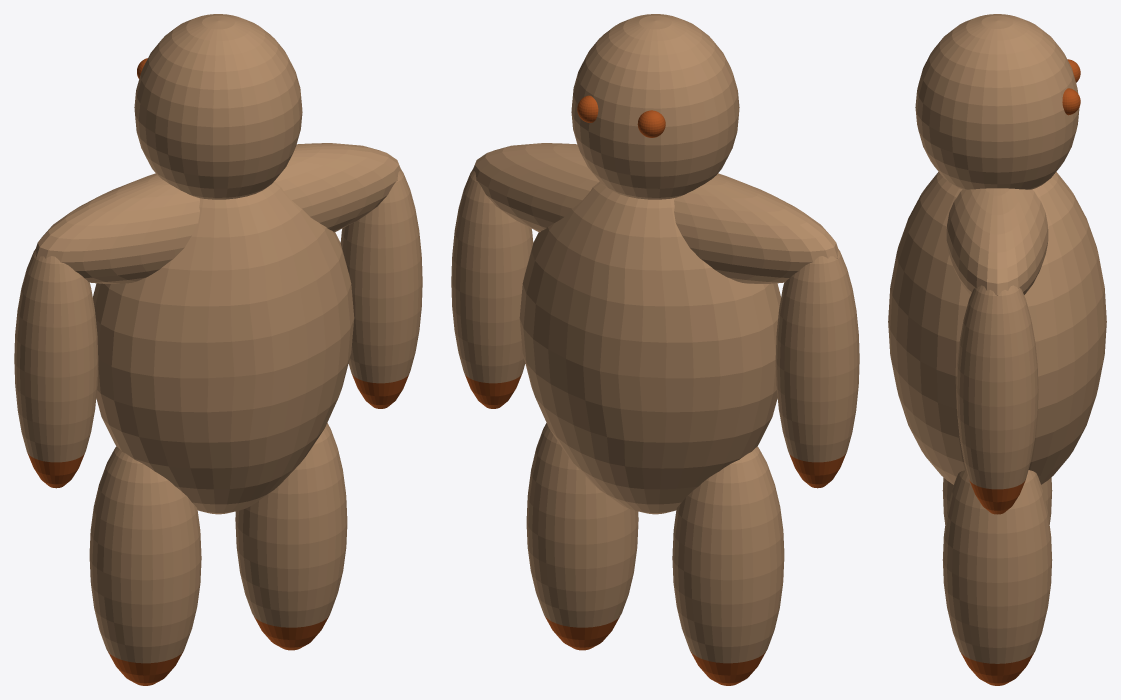
Rendered from player.glb.
3 renders of one model, left to right at view 1: azimuth 30°, elevation 25°; view 2: azimuth 150°, elevation 25°; view 3: azimuth 270°, elevation 25°, orthographic. The views are drawn at different scales.
Visible parts, largest first — view 1: body, head, right_leg, shoulders, left_leg, right_arm, left_arm; view 2: body, head, right_leg, shoulders, left_leg, right_arm, left_arm, left_eye; view 3: body, head, left_leg, left_arm, shoulders, right_leg, right_eye.
Part boxes in pixels (<box>): body: <box>93,181,354,514</box>; head: <box>134,14,302,199</box>; right_leg: <box>89,446,201,685</box>; shoulders: <box>35,143,401,283</box>; left_leg: <box>235,423,347,650</box>; right_arm: <box>14,249,98,488</box>; left_arm: <box>340,169,422,408</box>; body: <box>519,181,780,514</box>; head: <box>571,14,739,199</box>; right_leg: <box>672,446,784,685</box>; shoulders: <box>472,143,838,283</box>; left_leg: <box>526,423,638,650</box>; right_arm: <box>775,249,859,488</box>; left_arm: <box>451,169,533,408</box>; left_eye: <box>637,110,665,137</box>; body: <box>888,172,1106,484</box>; head: <box>915,14,1079,189</box>; left_leg: <box>942,470,1052,685</box>; left_arm: <box>956,285,1038,514</box>; shoulders: <box>946,188,1048,295</box>; right_leg: <box>942,477,1052,524</box>; right_eye: <box>1062,88,1080,115</box>.
Size of the model in its own units: 1.63 by 2.54 by 0.8.
